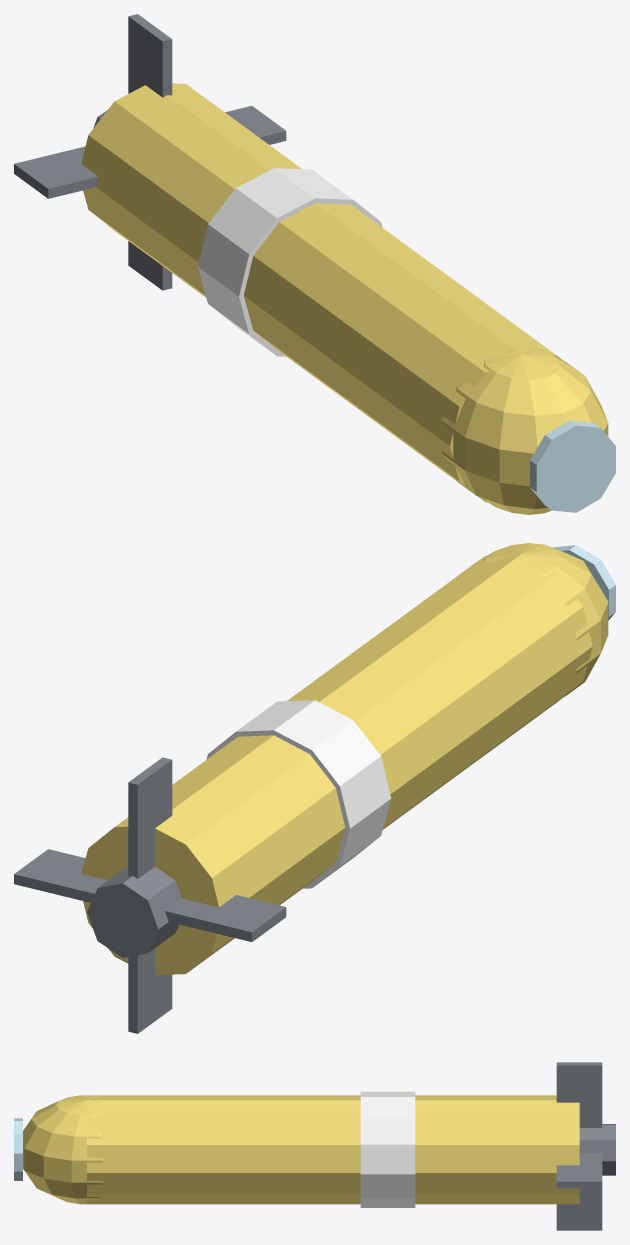
Rendered from subdrone.glb.
3 renders of one model, top to bottom at view 1: azimuth 30°, elevation 25°; view 2: azimuth 150°, elevation 25°; view 3: azimuth 270°, elevation 25°, orthographic. The views are drawn at different scales.
Visible parts, largest first — view 1: main; view 2: main; view 3: main.
Part boxes in pixels (x1,y1,x2,y2): main: (14, 14, 615, 514); main: (14, 543, 615, 1033); main: (14, 1062, 615, 1230).
Bounding box in the file's own units: 0.2 × 0.2 × 0.66.
